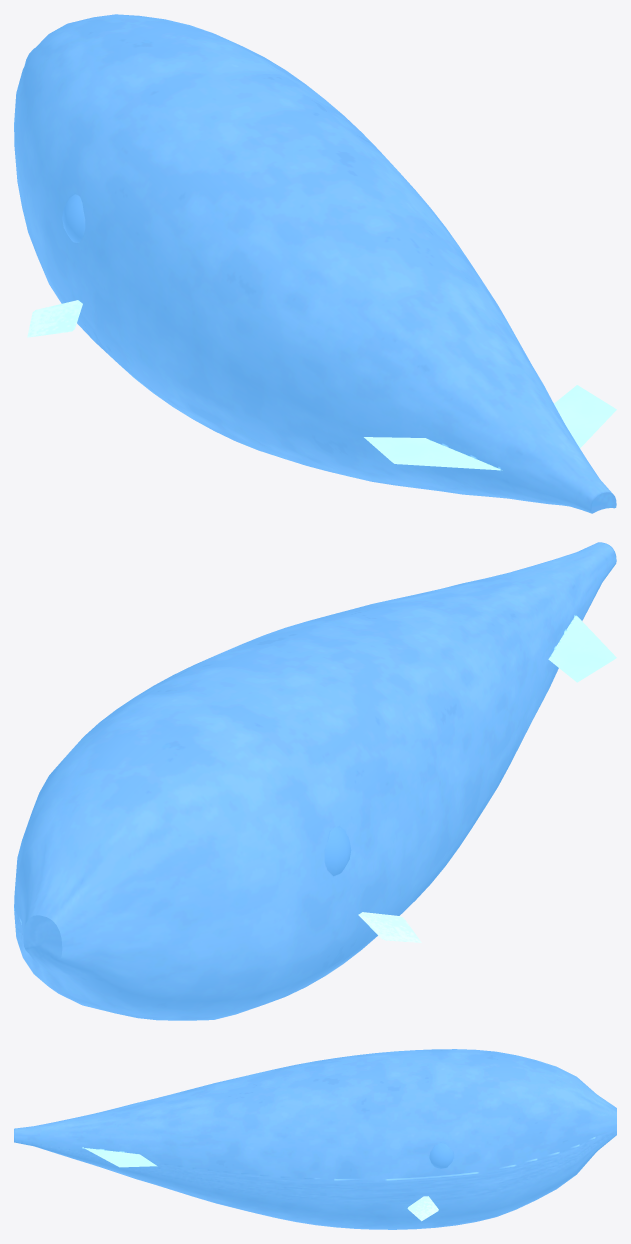
Rendered from anoplogaster_cornuta.glb.
The picture shows the model from 3 angles, top to bottom: view 1: azimuth 30°, elevation 25°; view 2: azimuth 150°, elevation 25°; view 3: azimuth 270°, elevation 25°; orthographic projection. The views are drawn at different scales.
Parts seen in each view (by area): view 1: anoplogaster_cornuta; view 2: anoplogaster_cornuta; view 3: anoplogaster_cornuta.
Boxes of the visible parts, x1,y1,x2,y2 form: anoplogaster_cornuta: [14, 14, 616, 513]; anoplogaster_cornuta: [14, 542, 616, 1020]; anoplogaster_cornuta: [14, 1049, 616, 1229].
Bounding box in the file's own units: 0.4064 × 0.2875 × 1.
Materials: 2 (2 with a texture image).
